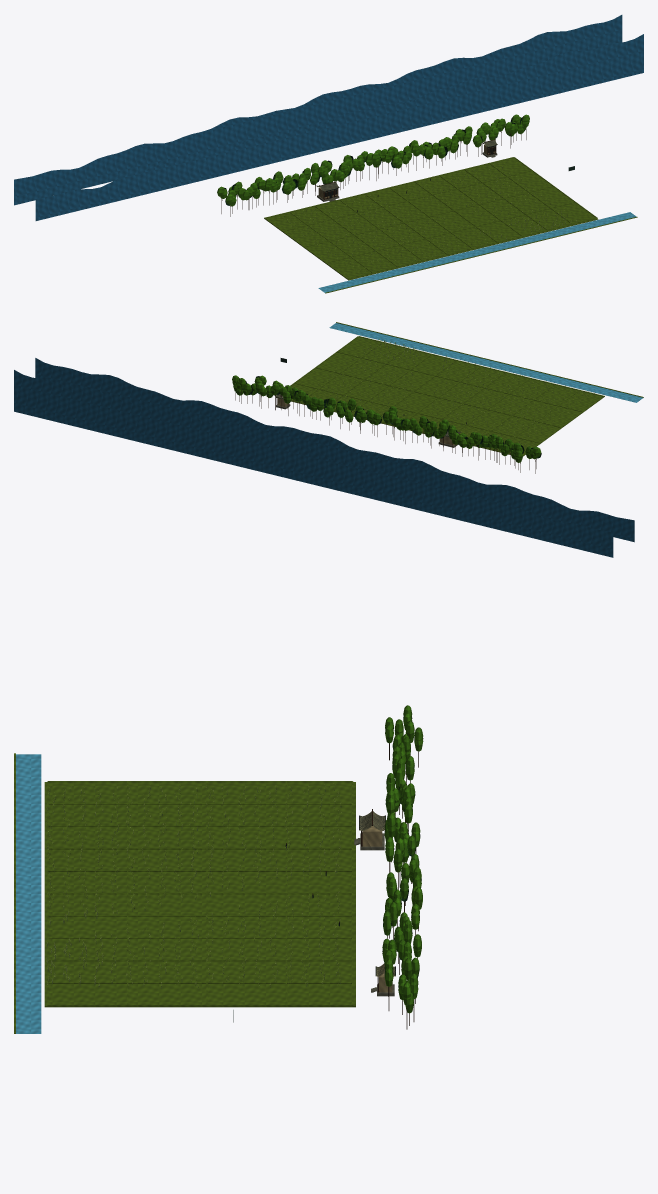
File: JingXi_Aligned_Summer.glb
The picture shows the model from 3 angles, top to bottom: view 1: azimuth 30°, elevation 25°; view 2: azimuth 150°, elevation 25°; view 3: azimuth 270°, elevation 25°; orthographic projection. The views are drawn at different scales.
Visible parts, largest first — view 1: Summer_MountainRidge_mountain, Summer_FieldEarth_earth, Summer_TreeCrowns_crown, Summer_YuquanCanal_water, Summer_CrossBanks_earth, Summer_FieldBanks_earth, Summer_Rice_Leaf_leaf, Summer_TreeTrunks_wood, Summer_Rice_Culm_leaf, Summer_NearBank_earth, Summer_TreeCrowns_leaf; view 2: Summer_MountainRidge_mountain, Summer_FieldEarth_earth, Summer_TreeCrowns_crown, Summer_YuquanCanal_water, Summer_CrossBanks_earth, Summer_FieldBanks_earth, Summer_TreeTrunks_wood, Summer_Rice_Leaf_leaf, Summer_Rice_Culm_leaf, Summer_NearBank_earth, Summer_TreeCrowns_leaf; view 3: Summer_FieldEarth_earth, Summer_TreeCrowns_crown, Summer_YuquanCanal_water, Summer_FieldBanks_earth, Summer_Rice_Leaf_leaf, Summer_CrossBanks_earth, Summer_Rice_Culm_leaf.
Part boxes in pixels (<box>): Summer_MountainRidge_mountain: <box>14,15,643,220</box>; Summer_FieldEarth_earth: <box>264,157,598,280</box>; Summer_TreeCrowns_crown: <box>217,114,529,206</box>; Summer_YuquanCanal_water: <box>318,212,636,292</box>; Summer_CrossBanks_earth: <box>265,157,596,278</box>; Summer_FieldBanks_earth: <box>264,157,597,279</box>; Summer_Rice_Leaf_leaf: <box>279,164,576,274</box>; Summer_TreeTrunks_wood: <box>221,129,526,216</box>; Summer_Rice_Culm_leaf: <box>284,165,576,275</box>; Summer_NearBank_earth: <box>325,217,637,293</box>; Summer_TreeCrowns_leaf: <box>224,117,524,205</box>; Summer_MountainRidge_mountain: <box>14,358,634,557</box>; Summer_FieldEarth_earth: <box>276,336,604,456</box>; Summer_TreeCrowns_crown: <box>232,375,541,462</box>; Summer_YuquanCanal_water: <box>329,323,643,402</box>; Summer_CrossBanks_earth: <box>291,336,603,453</box>; Summer_FieldBanks_earth: <box>290,336,604,455</box>; Summer_TreeTrunks_wood: <box>235,390,536,473</box>; Summer_Rice_Leaf_leaf: <box>309,339,594,444</box>; Summer_Rice_Culm_leaf: <box>318,341,594,443</box>; Summer_NearBank_earth: <box>336,322,643,397</box>; Summer_TreeCrowns_leaf: <box>235,376,541,458</box>; Summer_FieldEarth_earth: <box>44,782,355,1007</box>; Summer_TreeCrowns_crown: <box>382,705,423,1013</box>; Summer_YuquanCanal_water: <box>16,754,41,1033</box>; Summer_FieldBanks_earth: <box>48,781,352,1006</box>; Summer_Rice_Leaf_leaf: <box>46,785,341,987</box>; Summer_CrossBanks_earth: <box>47,781,353,1005</box>; Summer_Rice_Culm_leaf: <box>47,788,341,988</box>.
Size of the model in its own units: 195 by 13.26 by 95.15.
16 materials, 16 textured.
